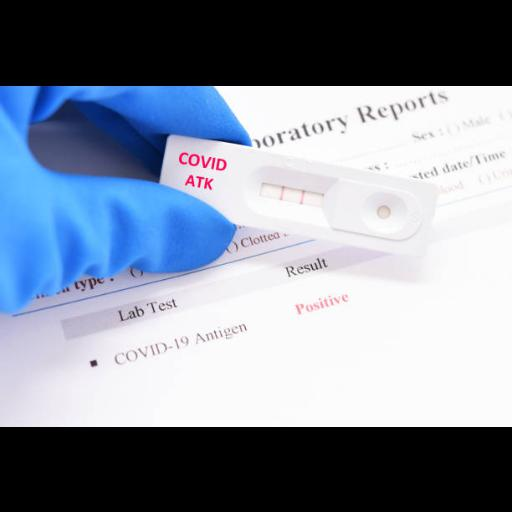Pos: (155, 133, 439, 261)
